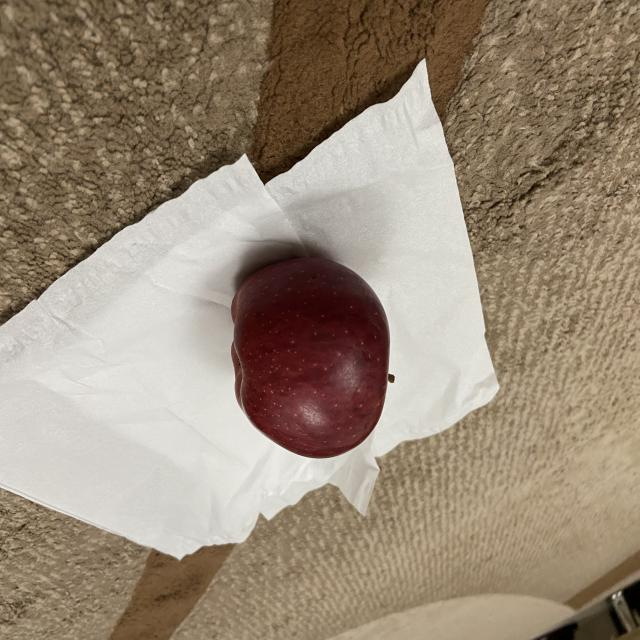apple: (216, 253, 400, 464)
